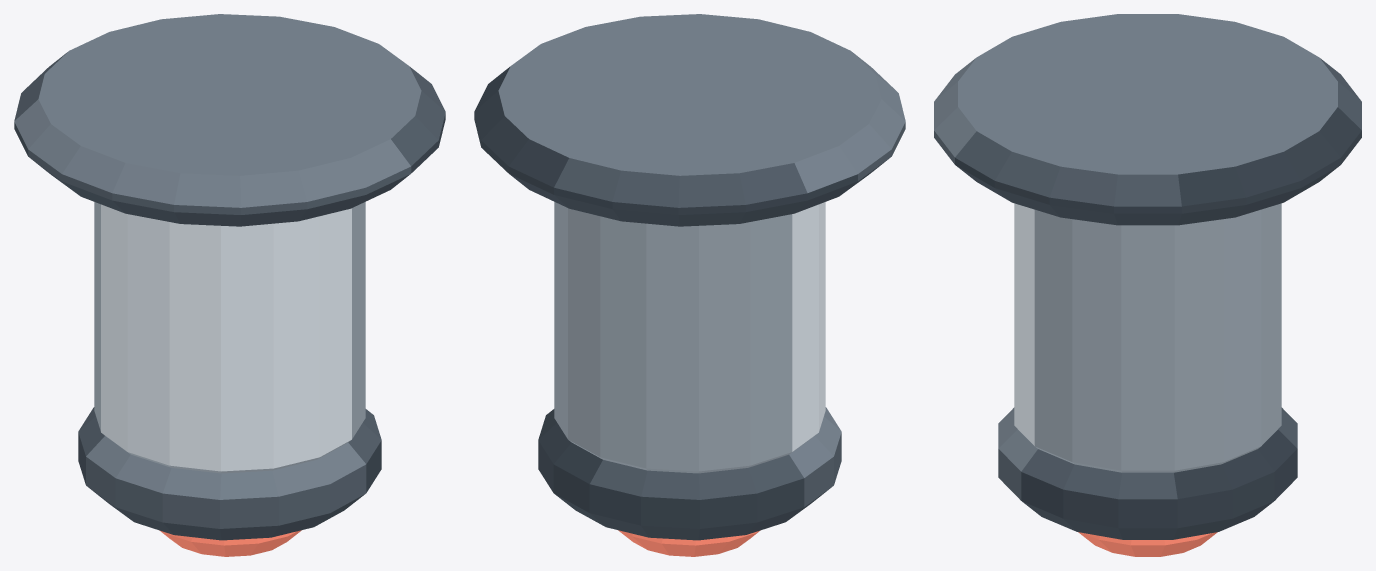
Rendered from Laser_Down.gltf.
3 views of the same model, side by side, from view 1: azimuth 30°, elevation 25°; view 2: azimuth 150°, elevation 25°; view 3: azimuth 270°, elevation 25° (orthographic).
Parts seen in each view (by area): view 1: Laser_Down_baked; view 2: Laser_Down_baked; view 3: Laser_Down_baked.
Part boxes in pixels (x1=…): Laser_Down_baked: x1=14, y1=14, x2=445, y2=556; Laser_Down_baked: x1=474, y1=14, x2=905, y2=556; Laser_Down_baked: x1=934, y1=14, x2=1361, y2=556.
Size of the model in its own units: 0.5334 by 0.6 by 0.5334.
